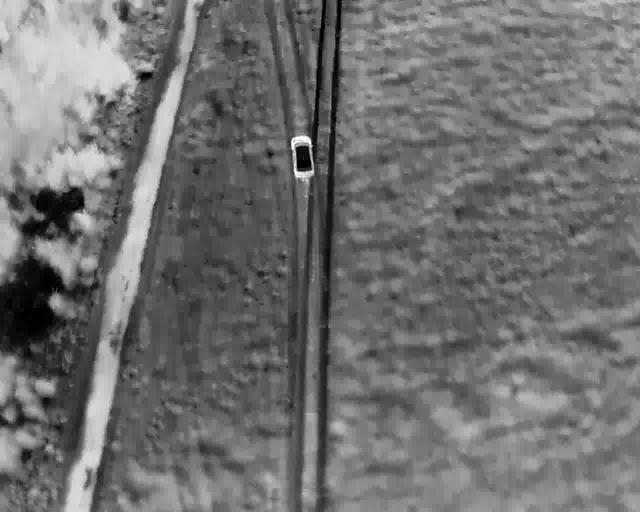car: (290, 134, 314, 178)
